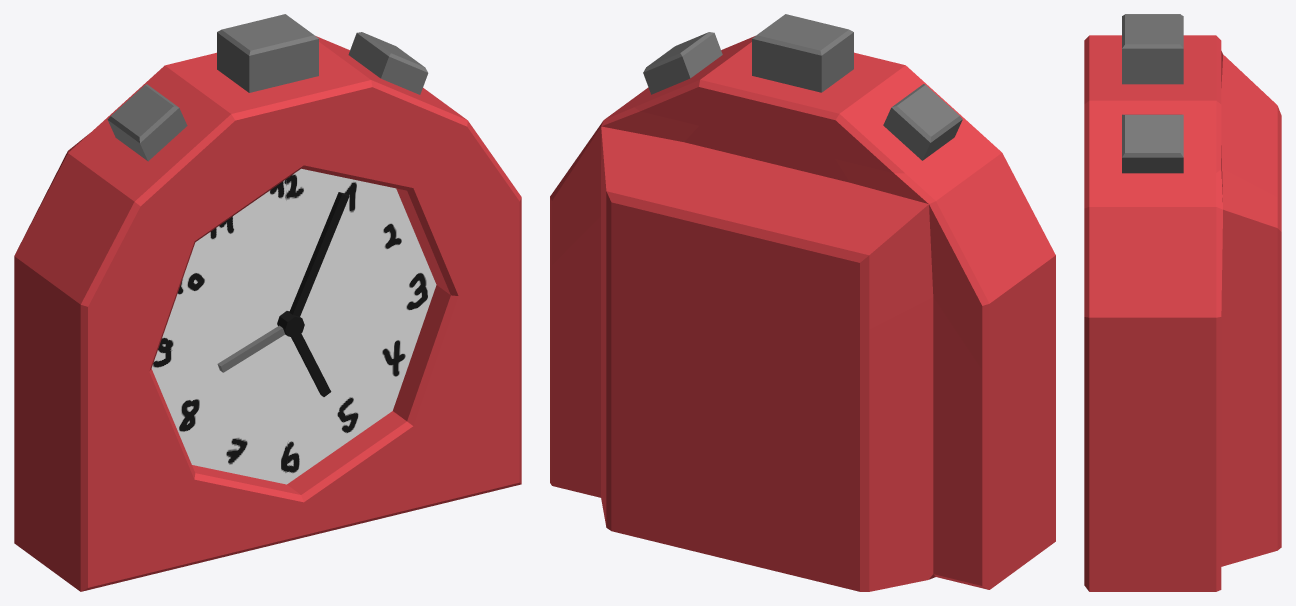
The model's file is stopwatch_v1.fbx.
3 views of the same model, side by side, from view 1: azimuth 30°, elevation 25°; view 2: azimuth 150°, elevation 25°; view 3: azimuth 270°, elevation 25° (orthographic). The views are drawn at different scales.
Parts seen in each view (by area): view 1: Cube; view 2: Cube; view 3: Cube.
Boxes of the visible parts, x1,y1,x2,y2 form: Cube: (14,14,521,591); Cube: (550,14,1055,591); Cube: (1084,14,1281,591).
Bounding box in the file's own units: 217 × 227 × 88.35.
Materials: 4 (1 with a texture image).
